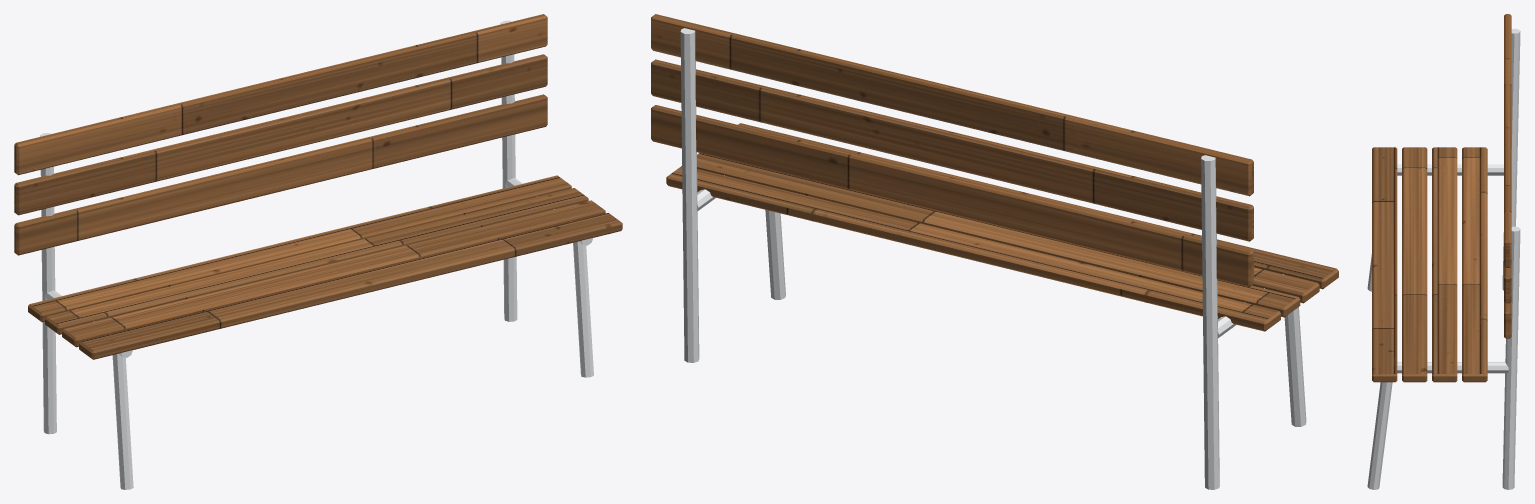
File: bench_wall.glb
The picture shows the model from 3 angles, left to right: view 1: azimuth 30°, elevation 25°; view 2: azimuth 150°, elevation 25°; view 3: azimuth 270°, elevation 25°; orthographic projection. The views are drawn at different scales.
Visible parts, largest first — view 1: bench_wall_wood, bench_wall_chrome; view 2: bench_wall_wood, bench_wall_chrome; view 3: bench_wall_wood, bench_wall_chrome.
Part boxes in pixels (<box>): bench_wall_wood: <box>14,14,622,359</box>; bench_wall_chrome: <box>40,20,593,489</box>; bench_wall_wood: <box>651,14,1338,331</box>; bench_wall_chrome: <box>680,28,1306,489</box>; bench_wall_wood: <box>1372,14,1511,382</box>; bench_wall_chrome: <box>1367,28,1520,489</box>.
Size of the model in its own units: 1.8 by 0.9623 by 0.5099.
Materials: 2 (1 with a texture image).
